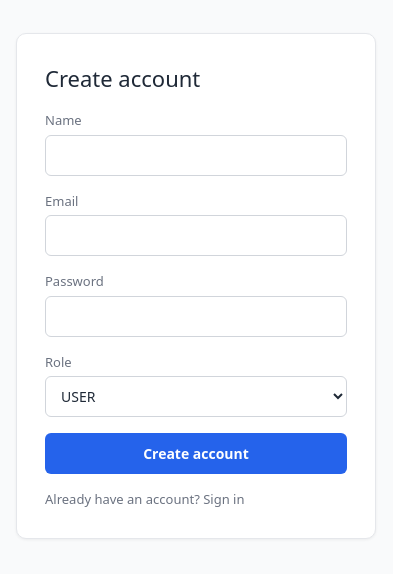
RegisterPage › shows an error when registration fails
Type "Bob" into the field labelled "Name" at (196, 155), box [45, 135, 347, 176]
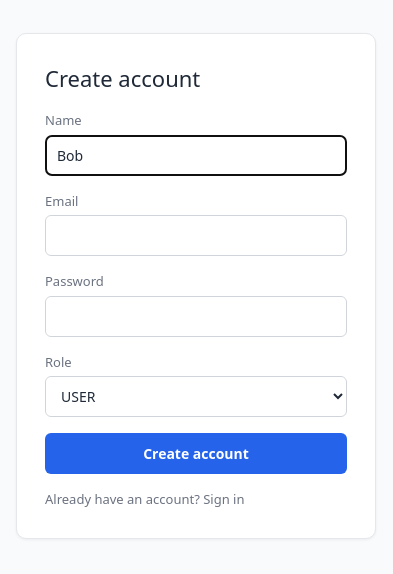
Type "bob@example.com" into the field labelled "Email" at (196, 236), box [45, 215, 347, 256]
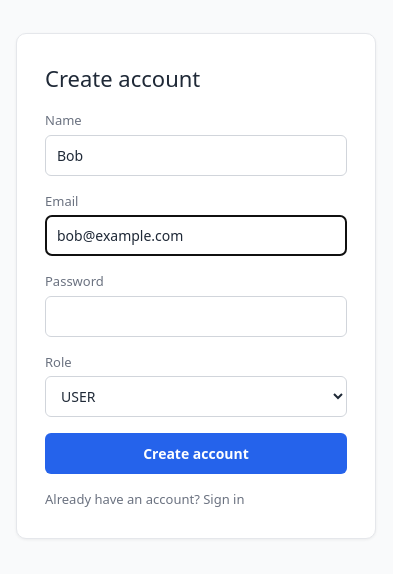
Type "pw" into the password field labelled "Password" at (196, 316), box [45, 296, 347, 337]
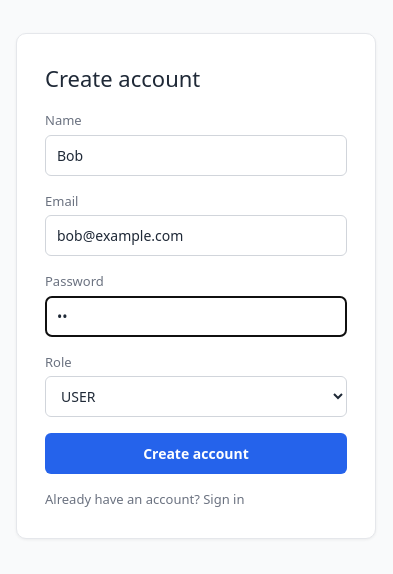
Click the button "Create account" at (196, 454), box [45, 433, 347, 474]
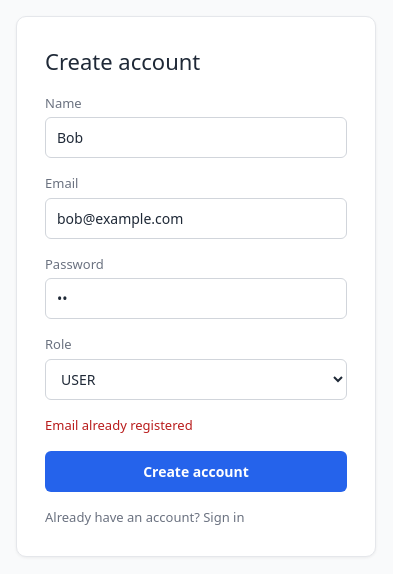
Expected: the text "Email already registered" is shown, [45, 416, 193, 434]
